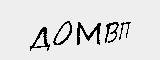В: (103, 19, 119, 44)
Д: (29, 24, 50, 51)
М: (77, 21, 102, 46)
О: (52, 18, 72, 46)
П: (118, 19, 133, 41)
